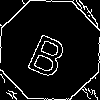B: (25, 25, 74, 80)
